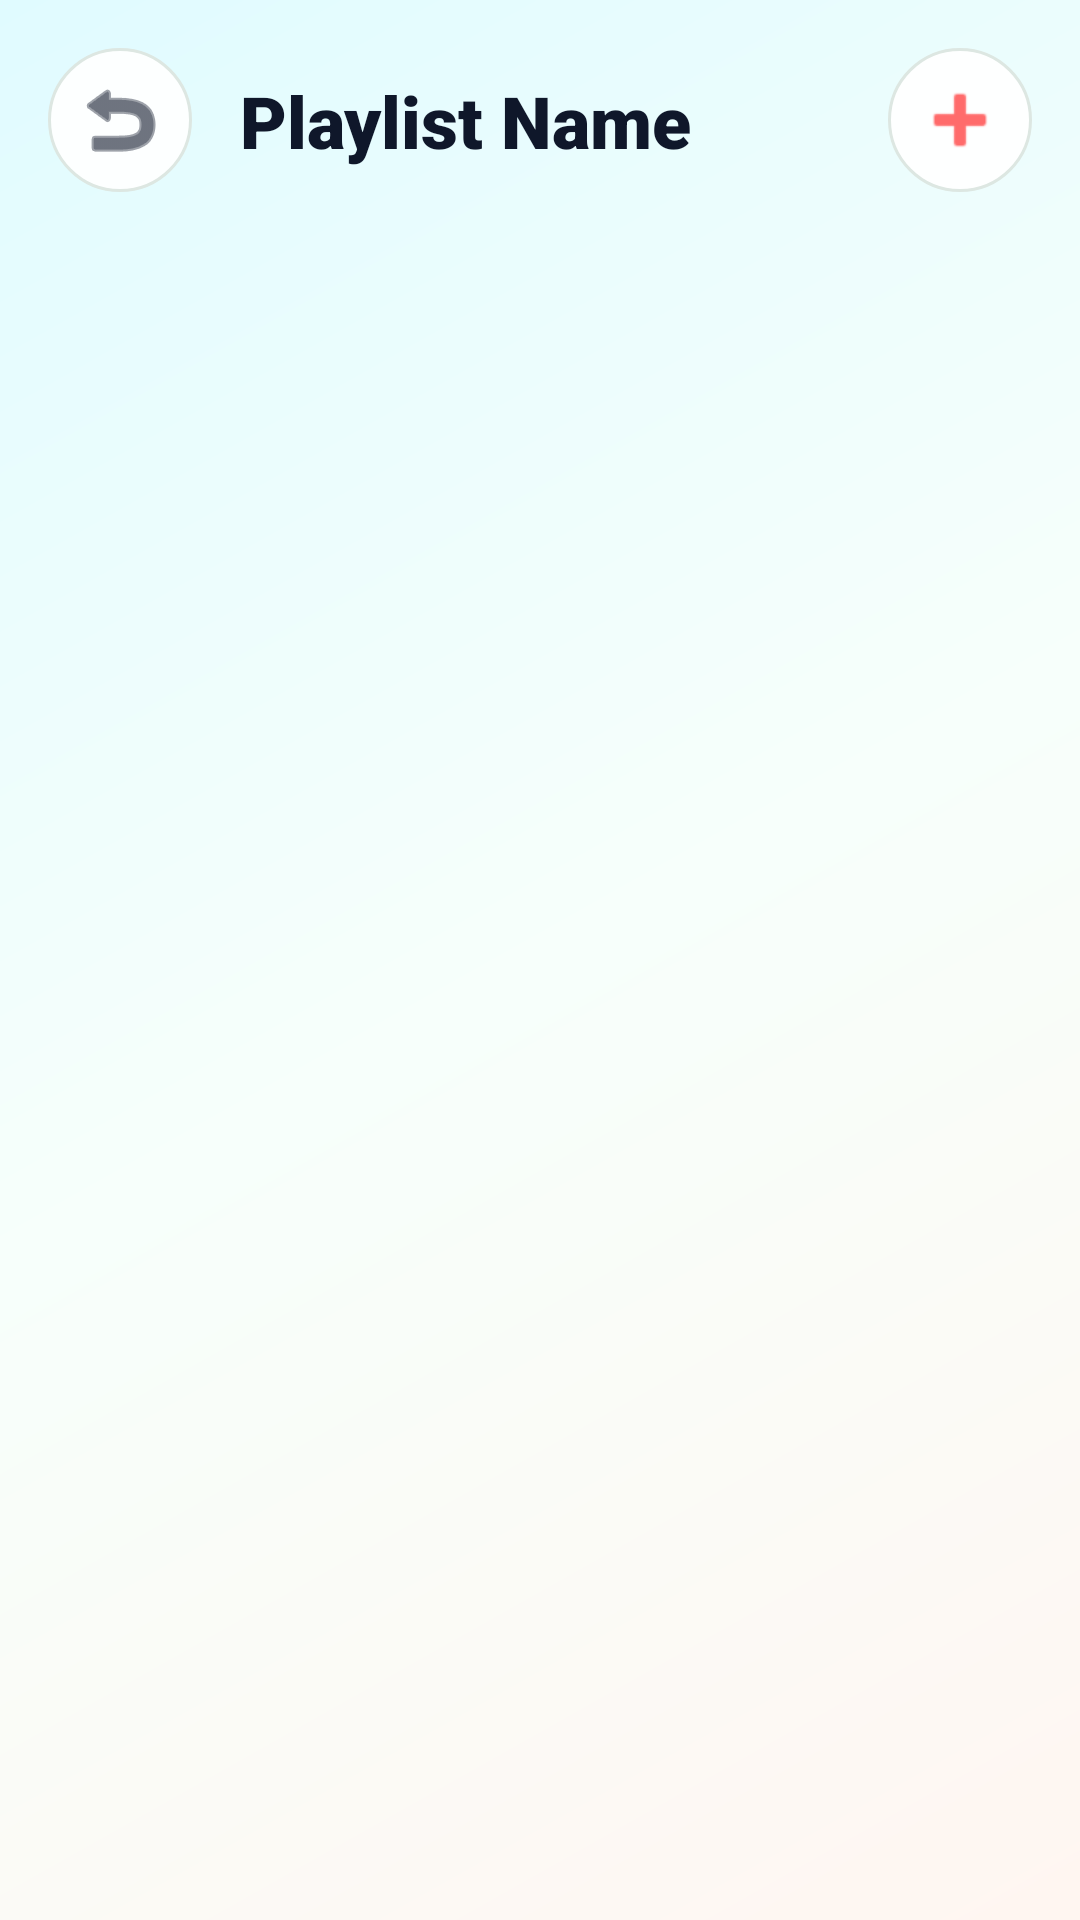

Where to tap for icons on this 1080 × 1920 app screen, as [x,y]:
add: [960,120]
revert: [120,120]
